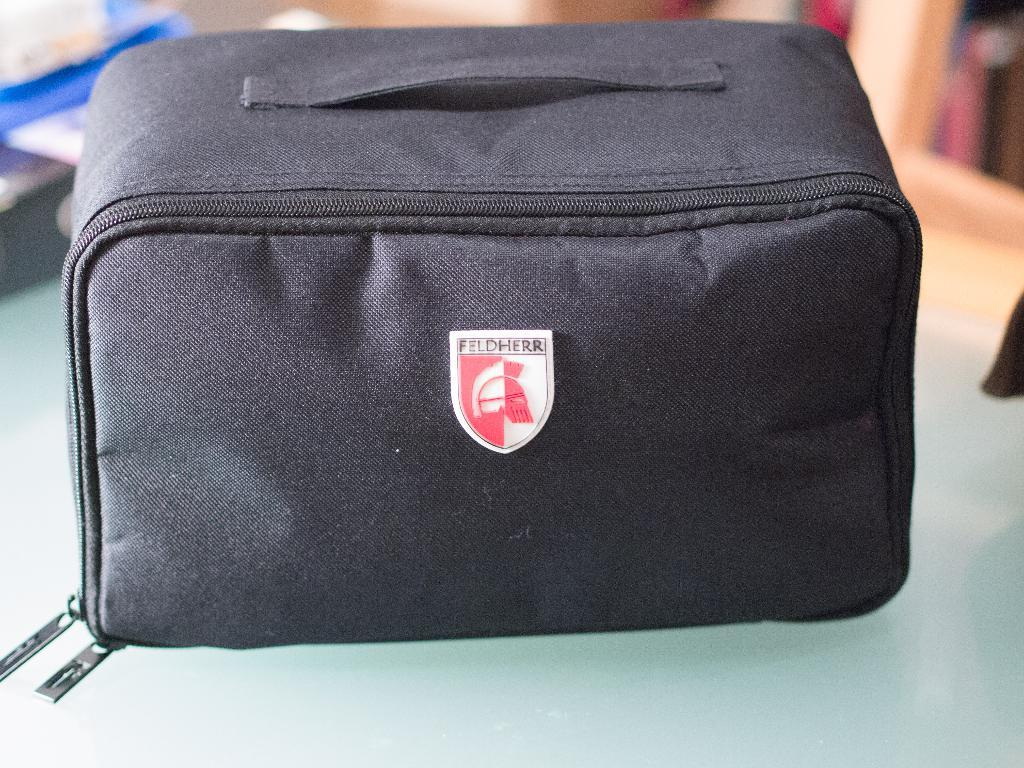Luggage-and-bags: (48, 31, 924, 654)
